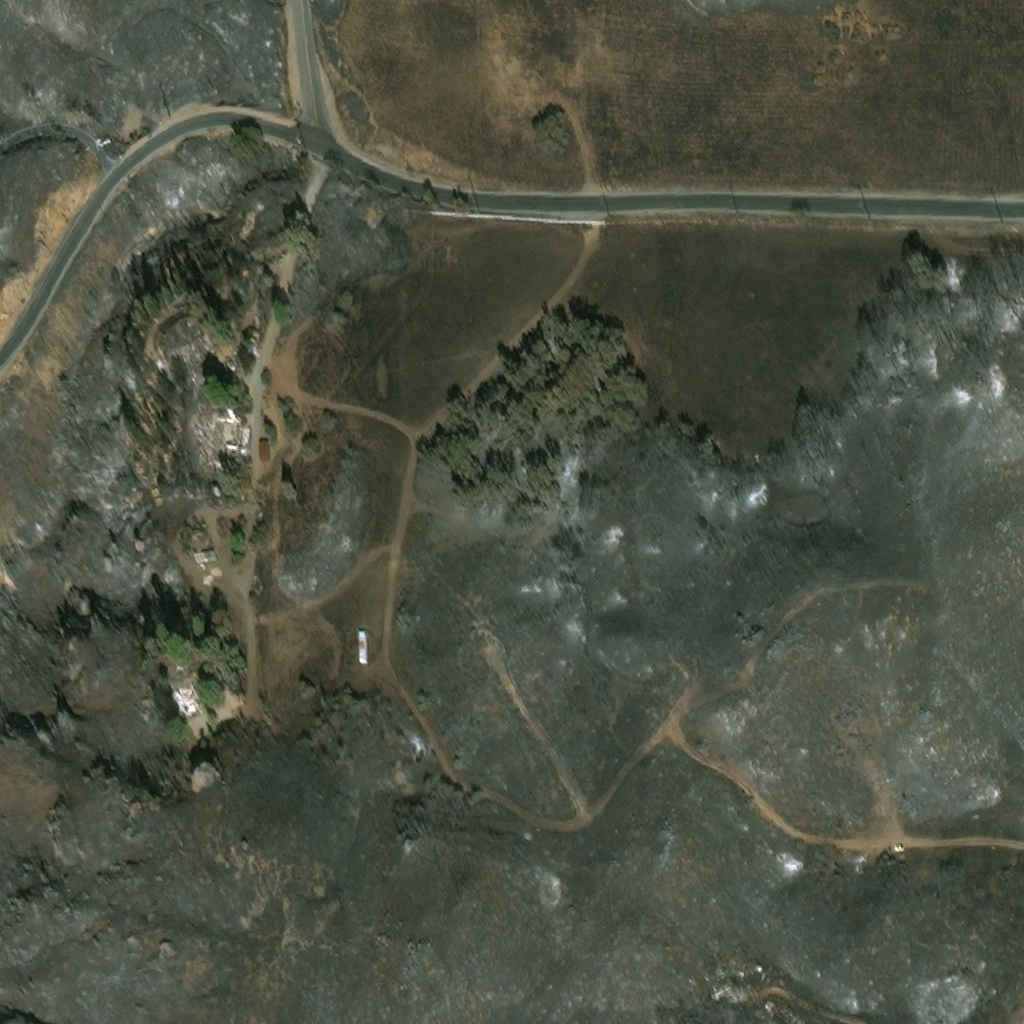1 minor-damage: (354, 623, 364, 651), (256, 434, 266, 452)
3 destroyed: (204, 395, 242, 452), (165, 678, 199, 709), (186, 763, 223, 788), (764, 995, 798, 1022), (708, 978, 729, 993), (192, 545, 214, 557), (171, 348, 188, 361), (728, 951, 745, 963), (733, 963, 742, 974)
